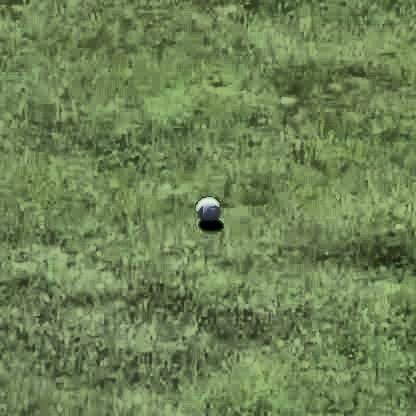golfball: (194, 191, 219, 219)
